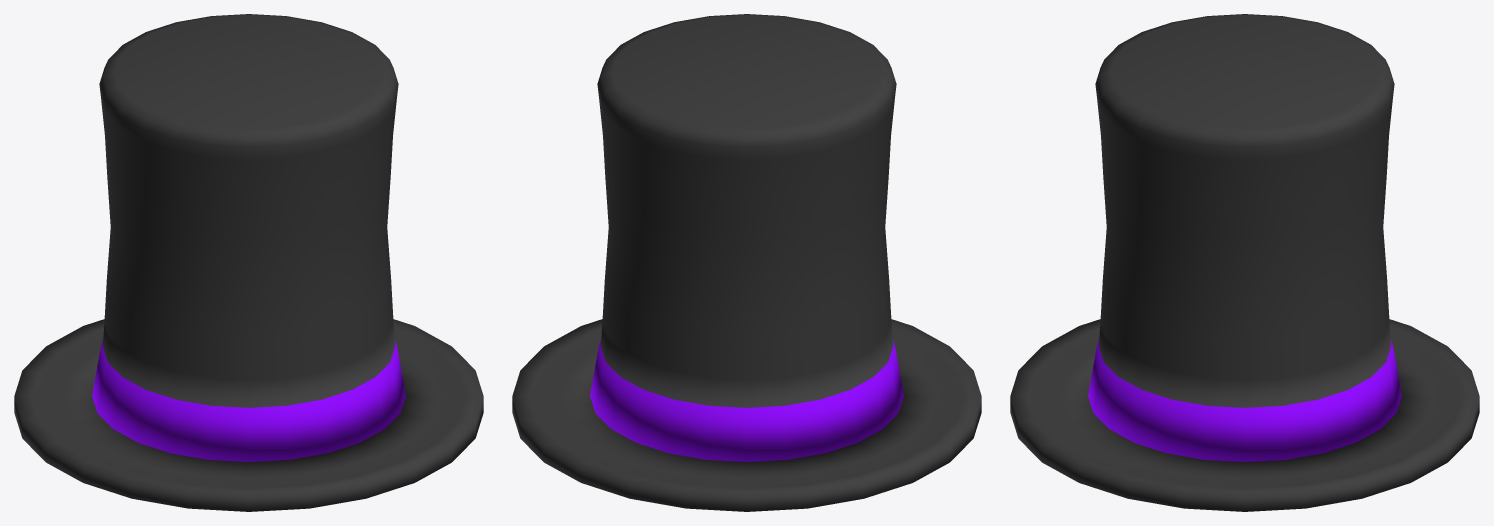
File: HAT.fbx
3 renders of one model, left to right at view 1: azimuth 30°, elevation 25°; view 2: azimuth 150°, elevation 25°; view 3: azimuth 270°, elevation 25°, orthographic.
Visible parts, largest first — view 1: Cylinder; view 2: Cylinder; view 3: Cylinder.
Part boxes in pixels (x1,y1,x2,y2): Cylinder: (14,14,483,511); Cylinder: (512,14,981,511); Cylinder: (1010,14,1479,511).
Size of the model in its own units: 332 by 274 by 332.
